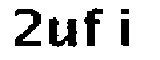2: (7, 3, 43, 54)
f: (82, 4, 104, 50)
i: (118, 6, 133, 50)
u: (46, 12, 81, 51)
